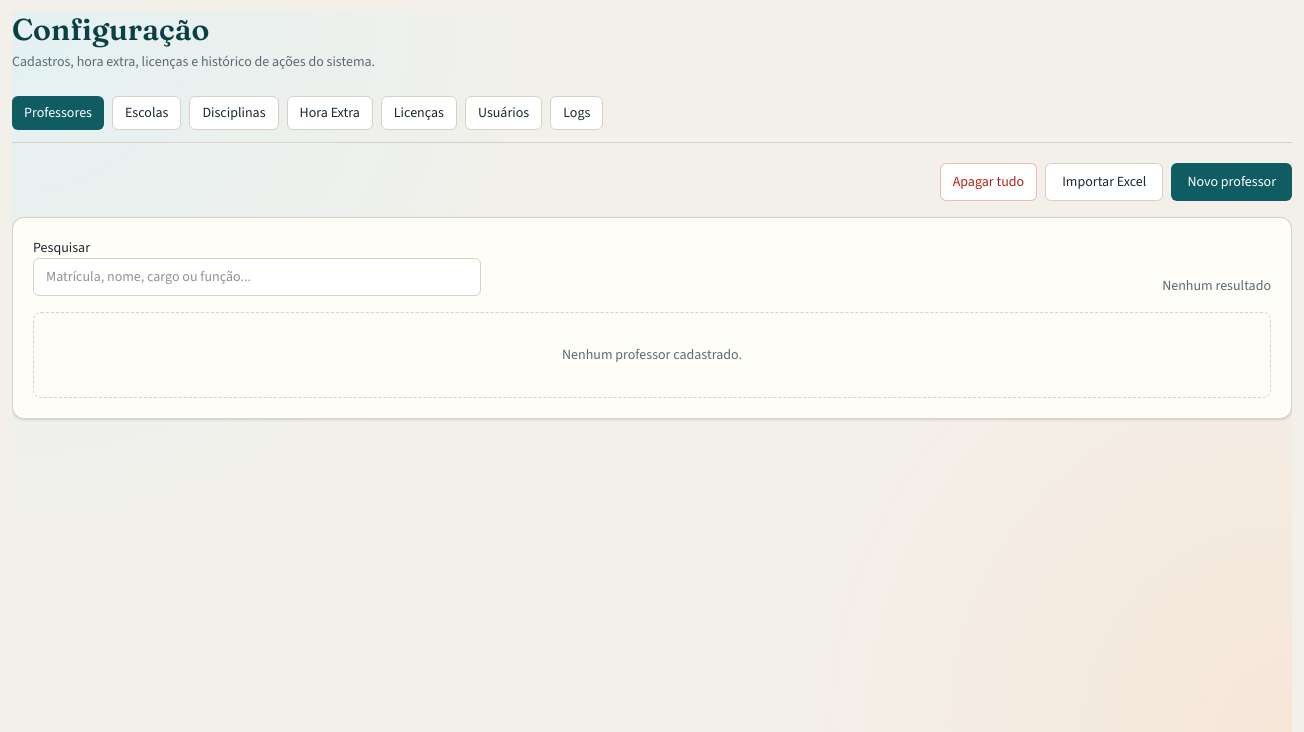
Test: Tela: Configuração — abas › troca para a aba Disciplinas
Click the button "Disciplinas". click: (234, 113)
box: x1=189 y1=96 x2=278 y2=130
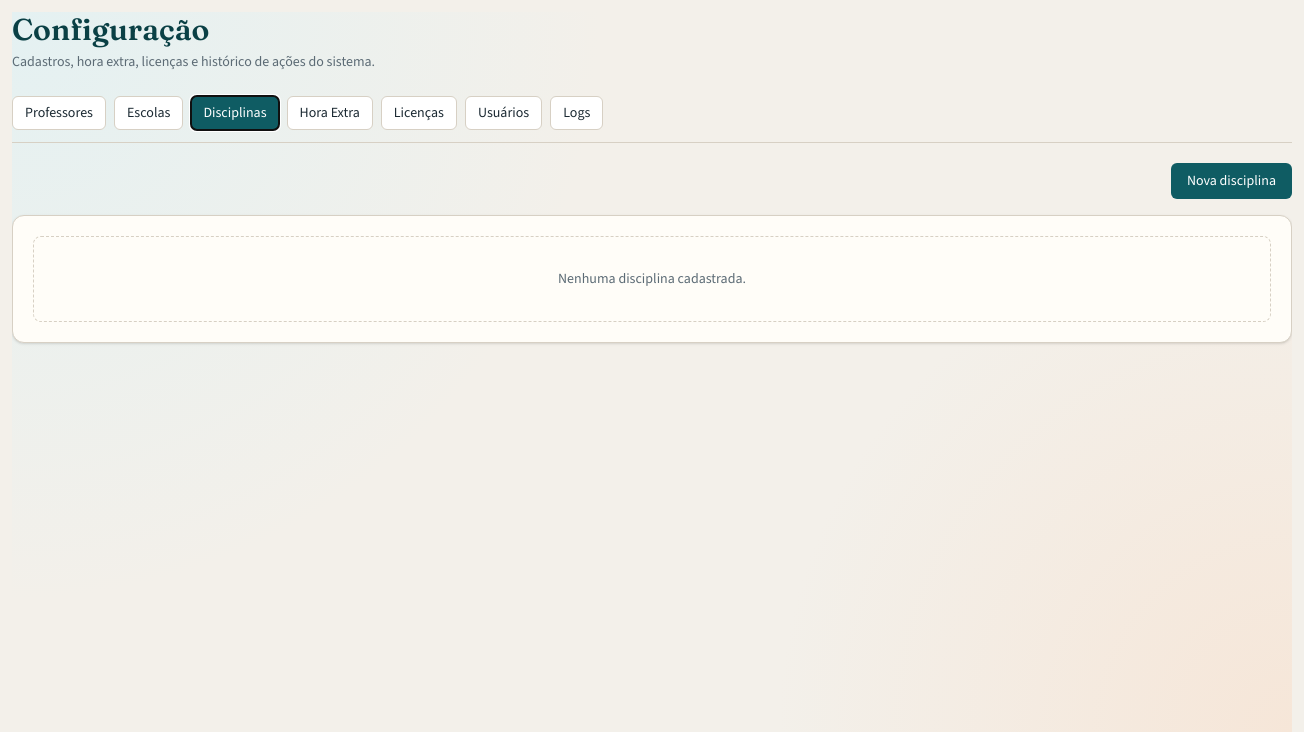
expect the button "Nova disciplina" is shown: met, box x1=1171 y1=163 x2=1292 y2=199
